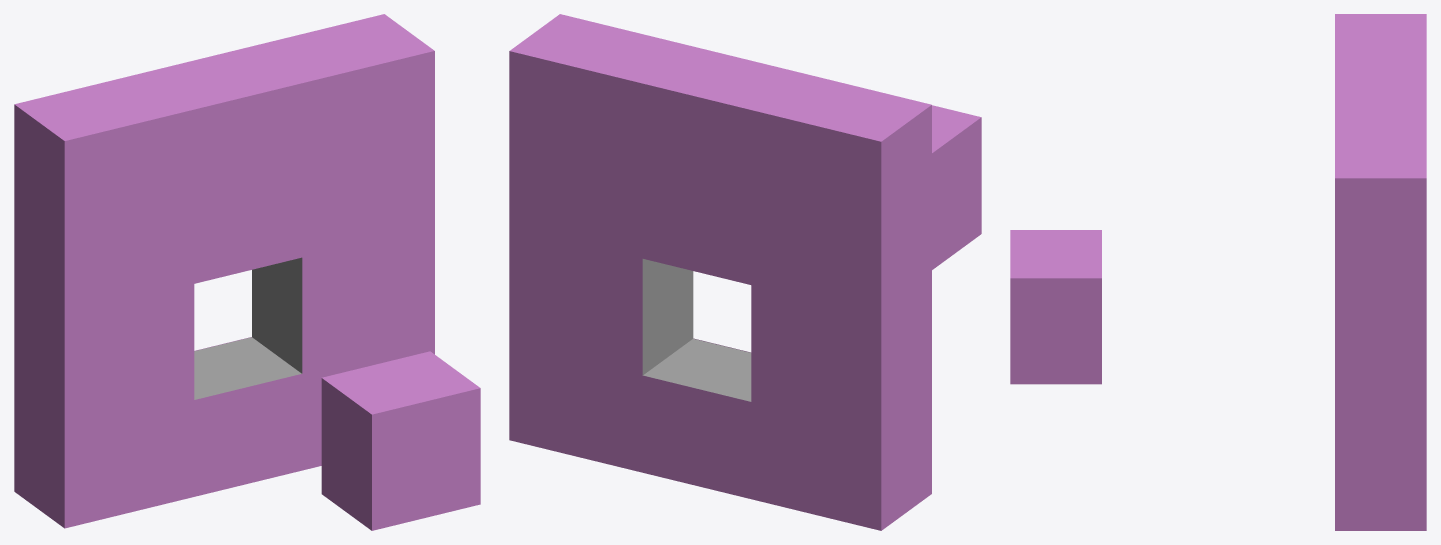
The model's file is Puzzle 2 Block.fbx.
3 views of the same model, side by side, from view 1: azimuth 30°, elevation 25°; view 2: azimuth 150°, elevation 25°; view 3: azimuth 270°, elevation 25° (orthographic). The views are drawn at different scales.
Visible parts, largest first — view 1: pCube1, pCube2, pPlane2, pPlane3; view 2: pCube1, pCube2, pPlane2, pPlane3; view 3: pCube1, pCube2.
Boxes of the visible parts, <box> form: pCube1: <box>14,14,434,528</box>; pCube2: <box>321,351,480,530</box>; pPlane2: <box>252,257,302,373</box>; pPlane3: <box>194,337,301,399</box>; pCube1: <box>509,14,931,530</box>; pCube2: <box>932,105,981,269</box>; pPlane2: <box>642,259,693,375</box>; pPlane3: <box>643,338,751,401</box>; pCube1: <box>1335,14,1426,530</box>; pCube2: <box>1010,230,1101,384</box>.
Bounding box in the file's own units: 4.24 × 4.24 × 4.54.
